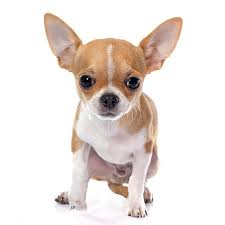chihuahua: (37, 6, 204, 225)
